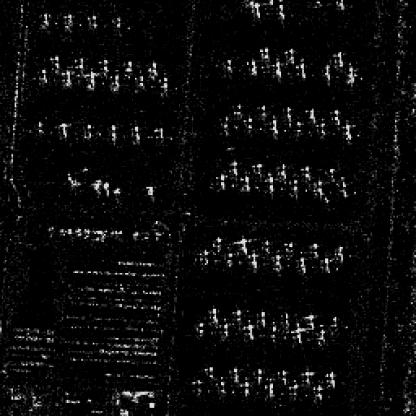airplane: (336, 176, 352, 198), (320, 61, 335, 84), (240, 320, 257, 340), (340, 122, 356, 143), (312, 179, 328, 198), (325, 166, 341, 185), (322, 369, 338, 388), (146, 60, 161, 80), (267, 322, 281, 343), (307, 385, 325, 401), (343, 63, 357, 83), (218, 115, 232, 135), (291, 323, 305, 343), (211, 379, 231, 393), (260, 382, 275, 400), (128, 122, 142, 141), (275, 366, 289, 385), (83, 13, 99, 29), (294, 60, 310, 76), (202, 364, 218, 380), (284, 382, 300, 398), (107, 15, 125, 29), (96, 57, 110, 75), (249, 2, 263, 20), (267, 117, 281, 135), (306, 106, 320, 124), (239, 174, 253, 192), (256, 308, 270, 326), (210, 235, 223, 254), (107, 75, 122, 91), (332, 47, 344, 67), (299, 369, 314, 385), (273, 3, 286, 21), (281, 310, 294, 328), (190, 378, 203, 396), (123, 57, 135, 76), (107, 122, 119, 141), (299, 164, 314, 179), (229, 307, 244, 322), (315, 328, 330, 343), (148, 124, 164, 138), (214, 172, 228, 188), (333, 242, 345, 260), (306, 310, 318, 328), (36, 69, 50, 84), (72, 55, 86, 70), (256, 102, 270, 117), (292, 120, 306, 135), (236, 235, 247, 254), (60, 70, 73, 86), (232, 101, 245, 117), (262, 177, 278, 190), (273, 250, 283, 270), (61, 12, 72, 30), (247, 250, 258, 268), (208, 307, 219, 325), (282, 239, 296, 253), (83, 72, 96, 87), (135, 72, 148, 87), (281, 104, 294, 119), (239, 380, 252, 395), (47, 56, 63, 68), (55, 119, 67, 135), (284, 47, 296, 63), (244, 116, 256, 132), (228, 160, 240, 176), (288, 177, 300, 193), (322, 255, 334, 271), (245, 59, 258, 73), (196, 249, 209, 263), (219, 322, 232, 336), (271, 60, 283, 75), (315, 121, 327, 136), (228, 367, 240, 382), (39, 10, 50, 26), (330, 109, 341, 125), (223, 252, 234, 268), (195, 320, 206, 336), (310, 240, 320, 257), (252, 161, 265, 174), (252, 369, 265, 382), (83, 122, 93, 138), (297, 255, 307, 271), (258, 44, 270, 57), (278, 163, 289, 177), (224, 55, 234, 70), (260, 239, 271, 252), (158, 76, 168, 90), (32, 118, 42, 132), (332, 0, 346, 10)
